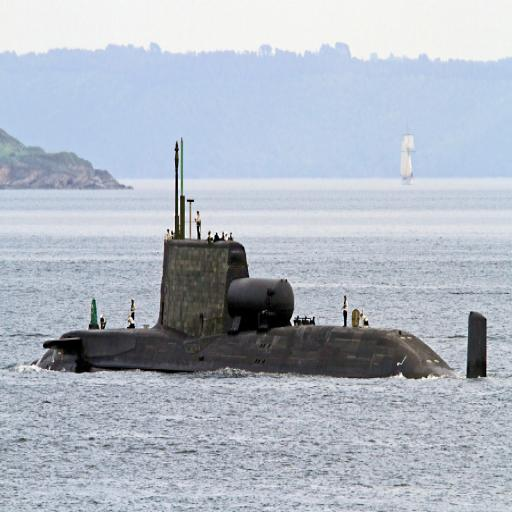submarine: (38, 241, 486, 371)
